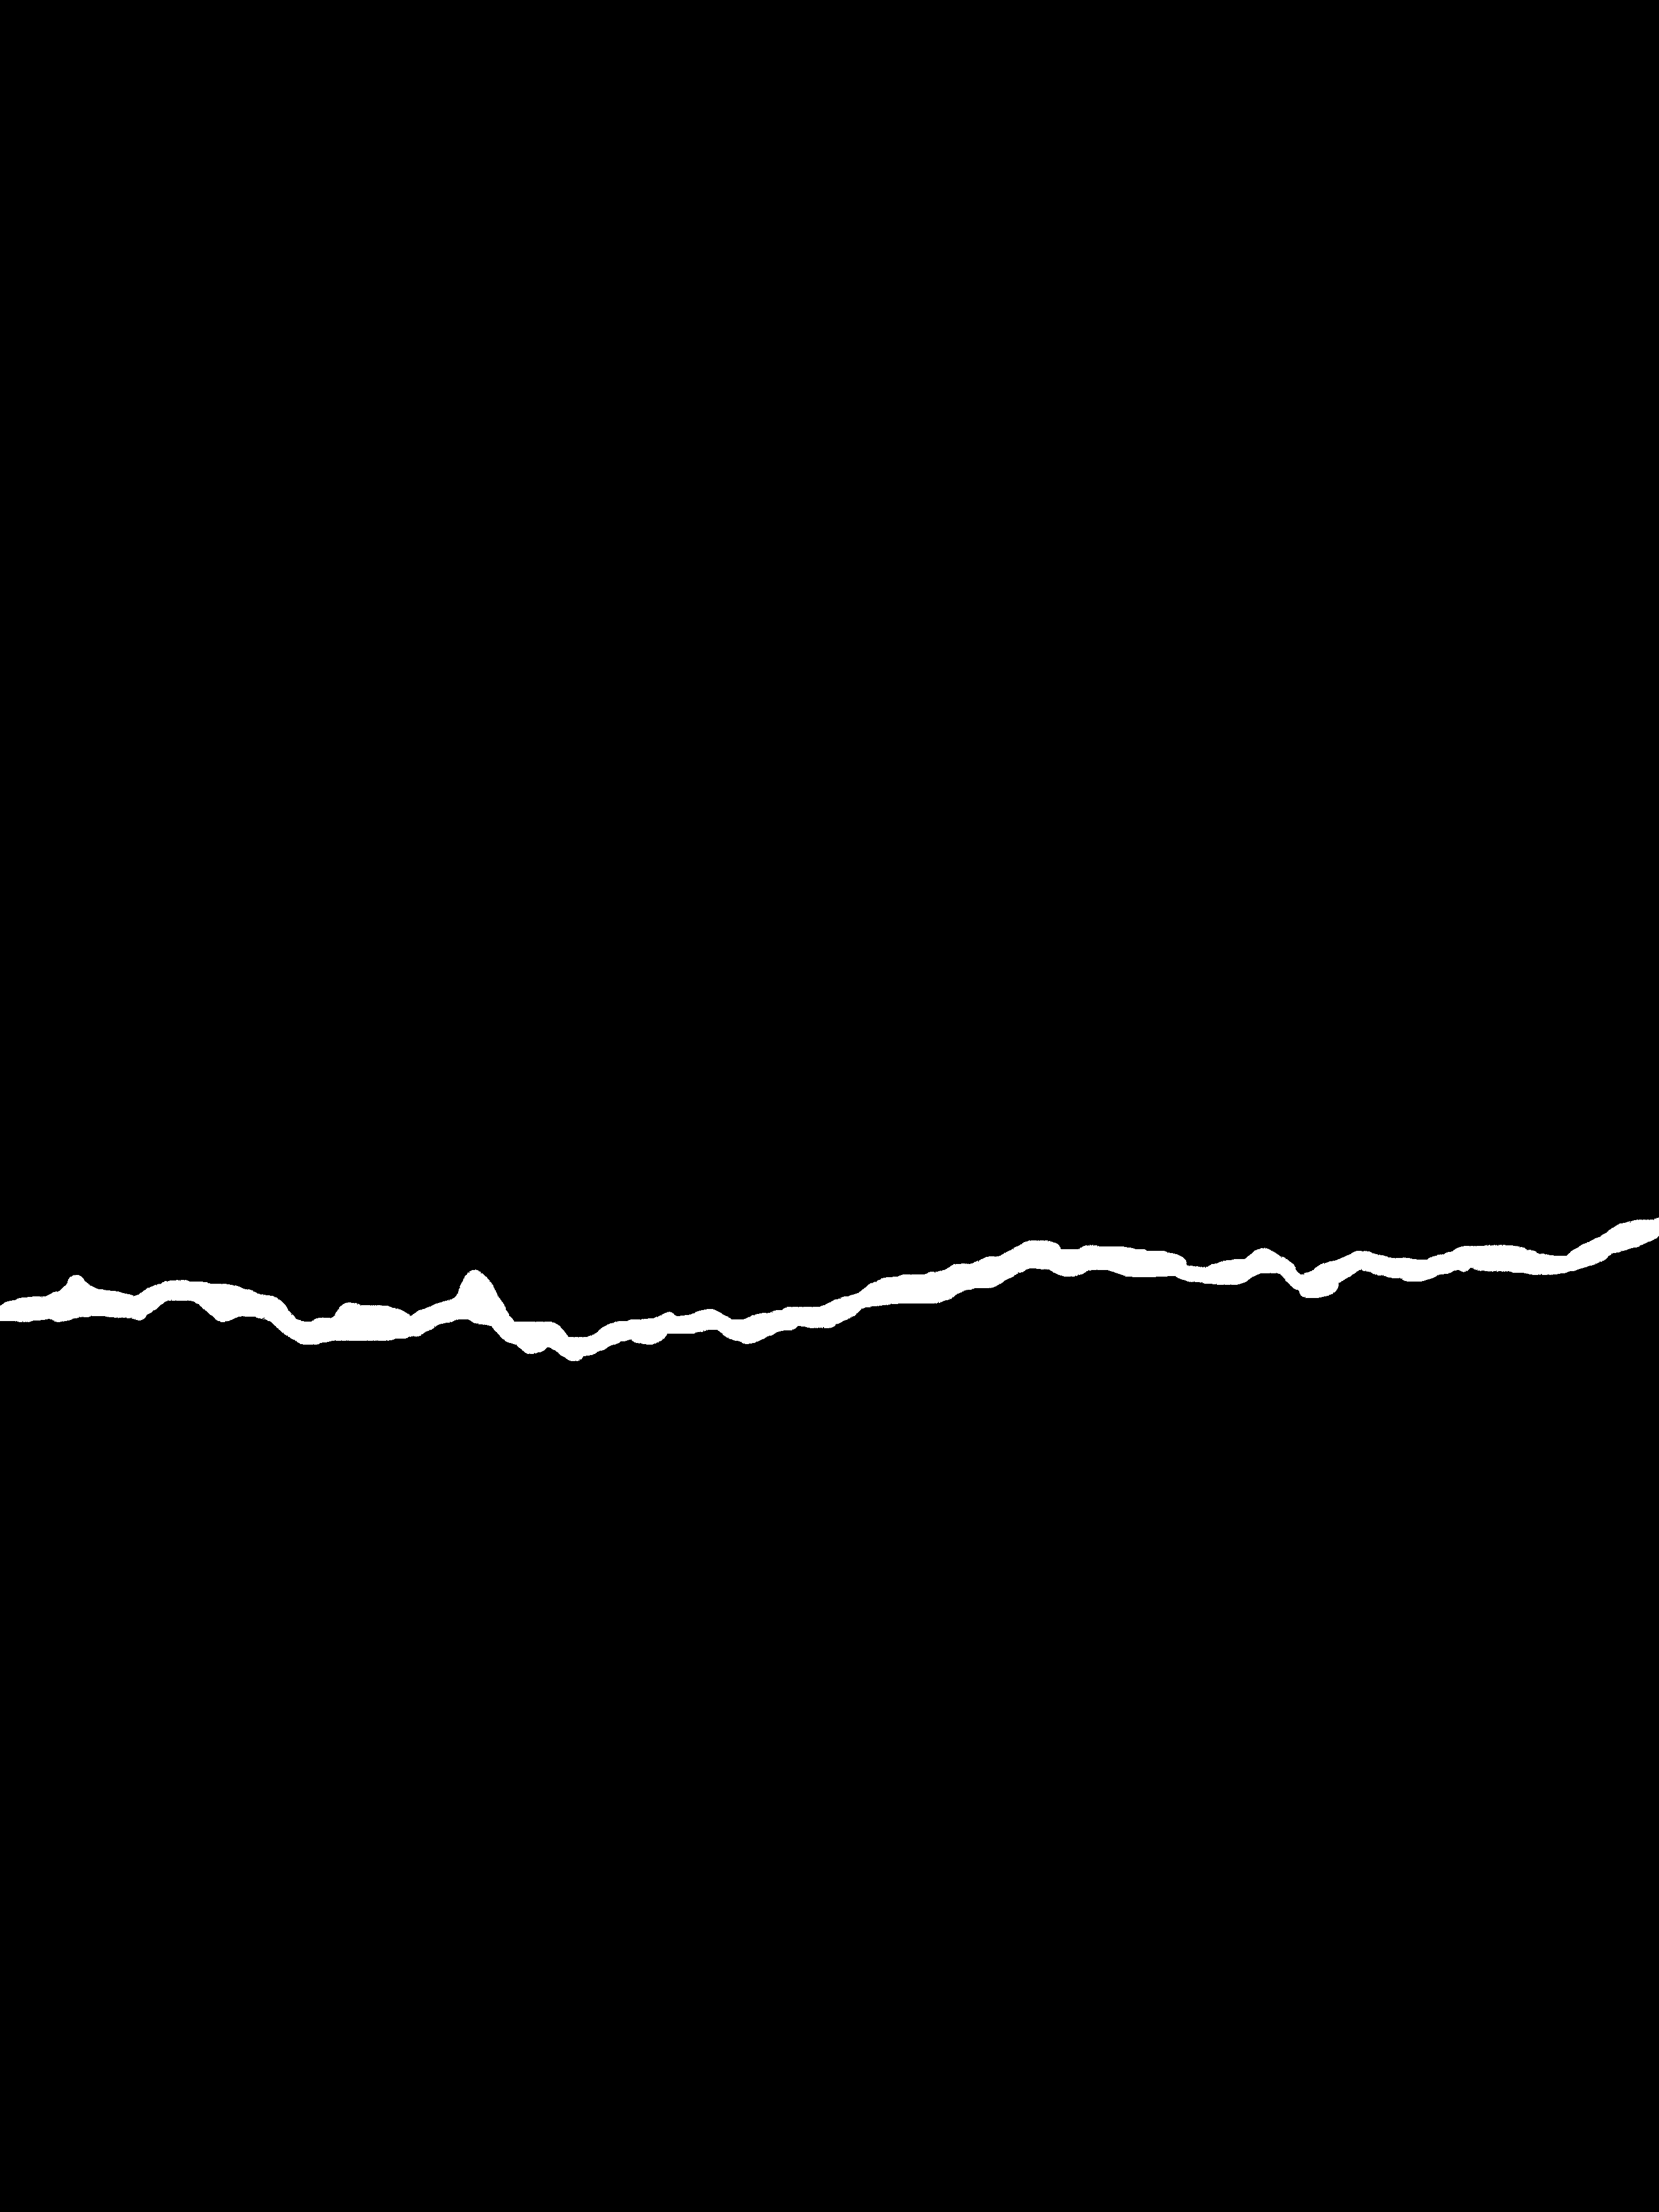Crack: (0, 1184, 1659, 1386)
